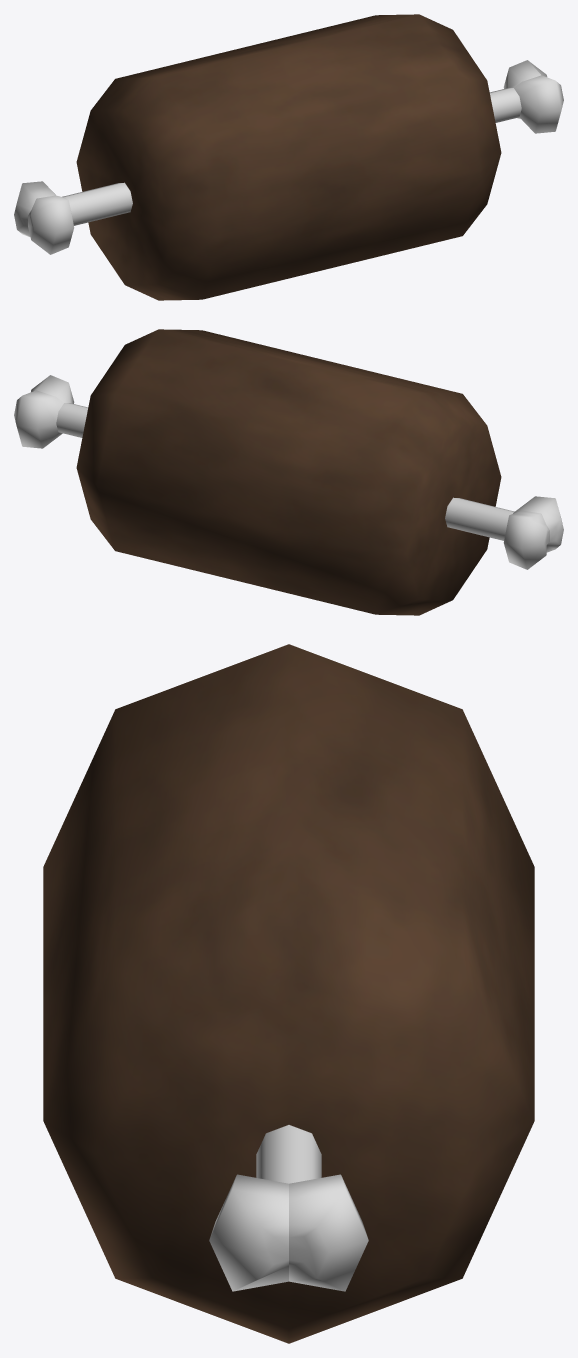
The model's file is mutant_raider_cured_chuck.glb.
The picture shows the model from 3 angles, top to bottom: view 1: azimuth 30°, elevation 25°; view 2: azimuth 150°, elevation 25°; view 3: azimuth 270°, elevation 25°; orthographic projection. The views are drawn at different scales.
Visible parts, largest first — view 1: Meat Haunch; view 2: Meat Haunch; view 3: Meat Haunch.
Part boxes in pixels (bbox=[...]): Meat Haunch: bbox=[14, 14, 563, 300]; Meat Haunch: bbox=[14, 329, 563, 615]; Meat Haunch: bbox=[43, 644, 534, 1343].
Size of the model in its own units: 0.2634 by 0.1057 by 0.1057.
Materials: 1 (1 with a texture image).
